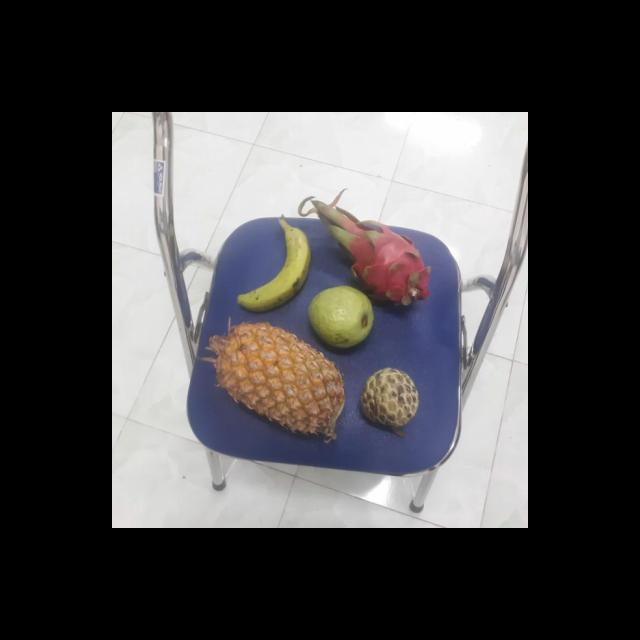Sakya fruit: (357, 368, 419, 431)
banana: (234, 221, 312, 316)
guava: (304, 286, 374, 349)
pineapple: (208, 322, 346, 439)
pitaya: (335, 221, 425, 309)
